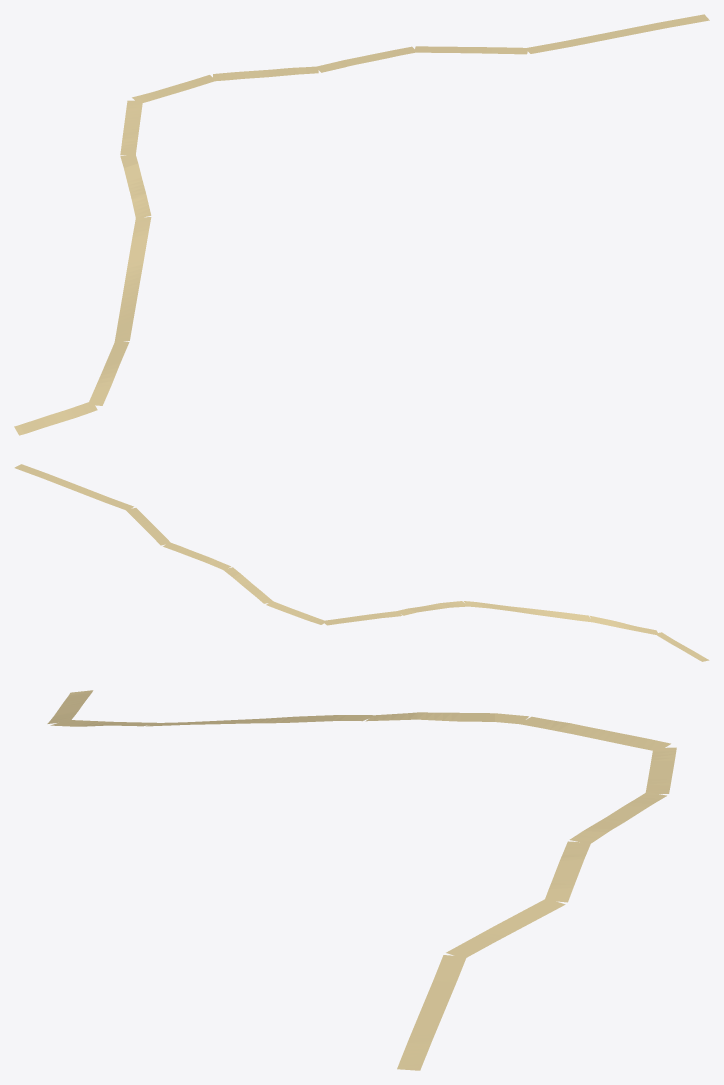
The model's file is Trail_26.glb.
3 renders of one model, top to bottom at view 1: azimuth 30°, elevation 25°; view 2: azimuth 150°, elevation 25°; view 3: azimuth 270°, elevation 25°, orthographic. The views are drawn at different scales.
Parts seen in each view (by area): view 1: Trail_26; view 2: Trail_26; view 3: Trail_26.
Part boxes in pixels (x1,y1,x2,y2): Trail_26: (14,14,709,435); Trail_26: (14,464,709,661); Trail_26: (47,690,676,1070).
Size of the model in its own units: 104 by 17.61 by 46.59.
